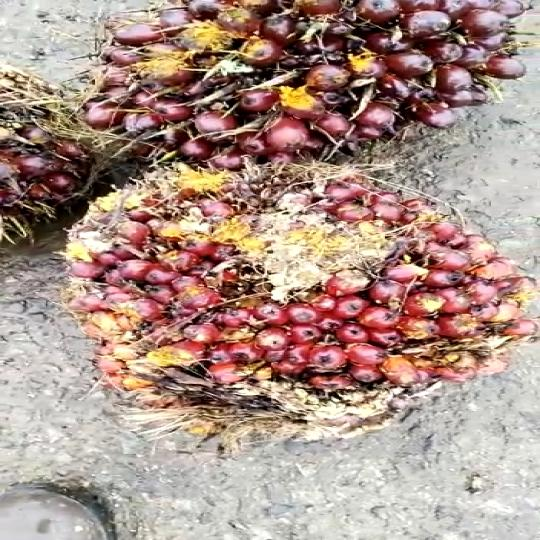masak: (44, 152, 540, 444), (56, 0, 528, 166)
